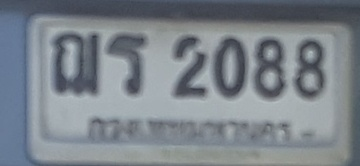txt09: (46, 27, 102, 97)
txt30: (102, 30, 151, 97)
